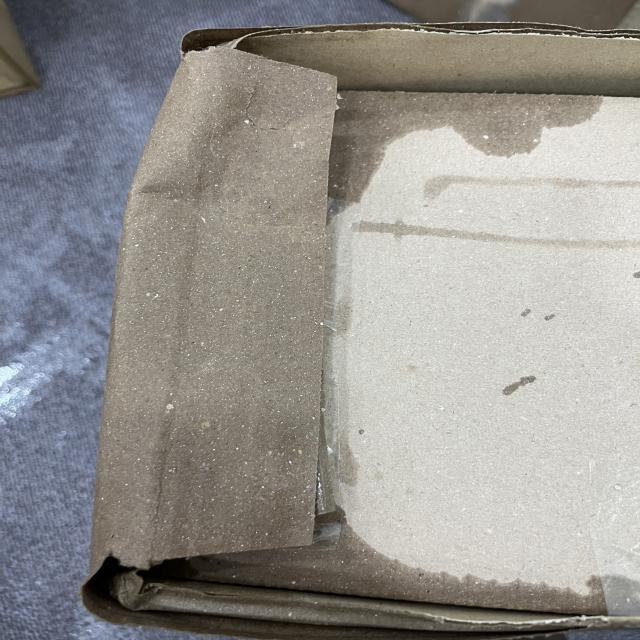wet: (97, 27, 362, 625)
